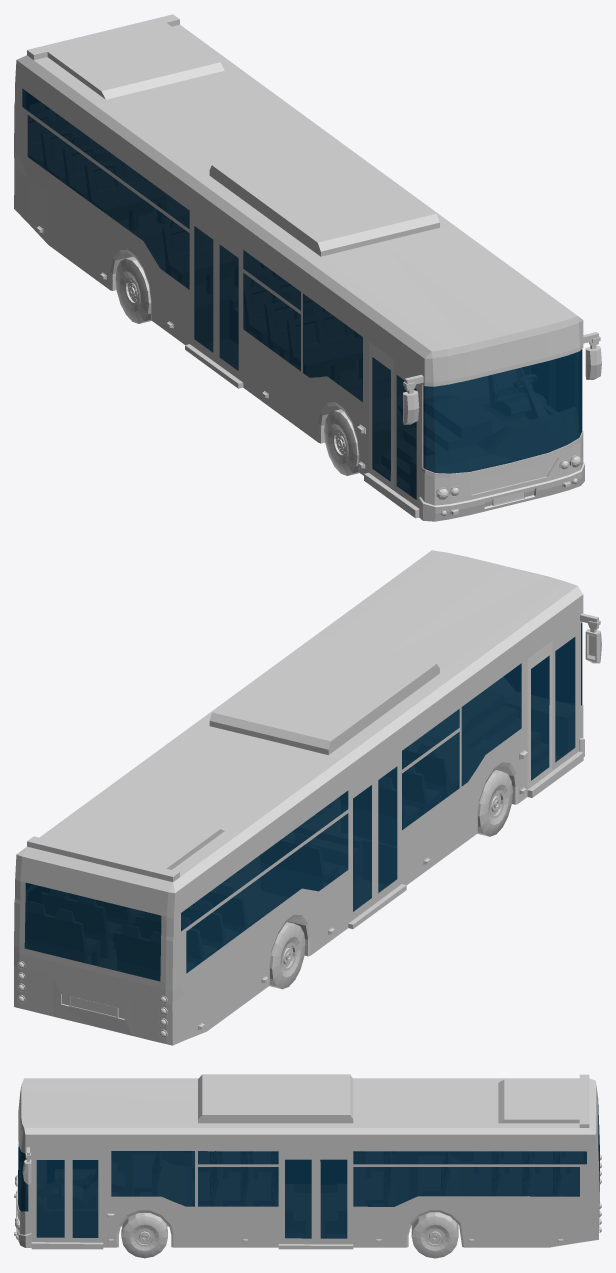
Rendered from bus_seperate_doors_seperate_wheels.fbx.
The picture shows the model from 3 angles, top to bottom: view 1: azimuth 30°, elevation 25°; view 2: azimuth 150°, elevation 25°; view 3: azimuth 270°, elevation 25°; orthographic projection. The views are drawn at different scales.
Visible parts, largest first — view 1: bus, bus_glass.005, bus_back_door_02_right, bus_back_door_01_right, bus_front_door_02_right, bus_front_door_01_right, bus_wheel.004, bus_wheel.001; view 2: bus, bus_glass.005, bus_back_door_02_right, bus_back_door_01_right, bus_front_door_01_right, bus_front_door_02_right, bus_wheel.004, bus_wheel.001; view 3: bus, bus_glass.005, bus_back_door_02_left, bus_back_door_01_left, bus_front_door_01_left, bus_front_door_02_left, bus_wheel.002, bus_wheel.003.
Boxes of the visible parts, bbox=[...] form: bus: bbox=[14, 14, 601, 521]; bus_glass.005: bbox=[22, 88, 582, 473]; bus_back_door_02_right: bbox=[189, 211, 216, 362]; bus_back_door_01_right: bbox=[216, 230, 243, 382]; bus_front_door_02_right: bbox=[369, 342, 393, 489]; bus_front_door_01_right: bbox=[393, 360, 420, 508]; bus_wheel.004: bbox=[115, 256, 151, 323]; bus_wheel.001: bbox=[324, 409, 359, 475]; bus: bbox=[14, 550, 601, 1045]; bus_glass.005: bbox=[24, 623, 582, 981]; bus_back_door_02_right: bbox=[348, 771, 374, 923]; bus_back_door_01_right: bbox=[375, 751, 401, 903]; bus_front_door_01_right: bbox=[552, 621, 578, 770]; bus_front_door_02_right: bbox=[527, 641, 552, 789]; bus_wheel.004: bbox=[269, 922, 305, 989]; bus_wheel.001: bbox=[477, 770, 512, 836]; bus: bbox=[14, 1074, 601, 1249]; bus_glass.005: bbox=[18, 1105, 599, 1211]; bus_back_door_02_left: bbox=[316, 1151, 353, 1244]; bus_back_door_01_left: bbox=[278, 1151, 315, 1244]; bus_front_door_01_left: bbox=[31, 1151, 68, 1242]; bus_front_door_02_left: bbox=[68, 1151, 103, 1242]; bus_wheel.002: bbox=[411, 1212, 458, 1258]; bus_wheel.003: bbox=[121, 1213, 167, 1258].
Size of the model in its own units: 487 by 465 by 1806.
